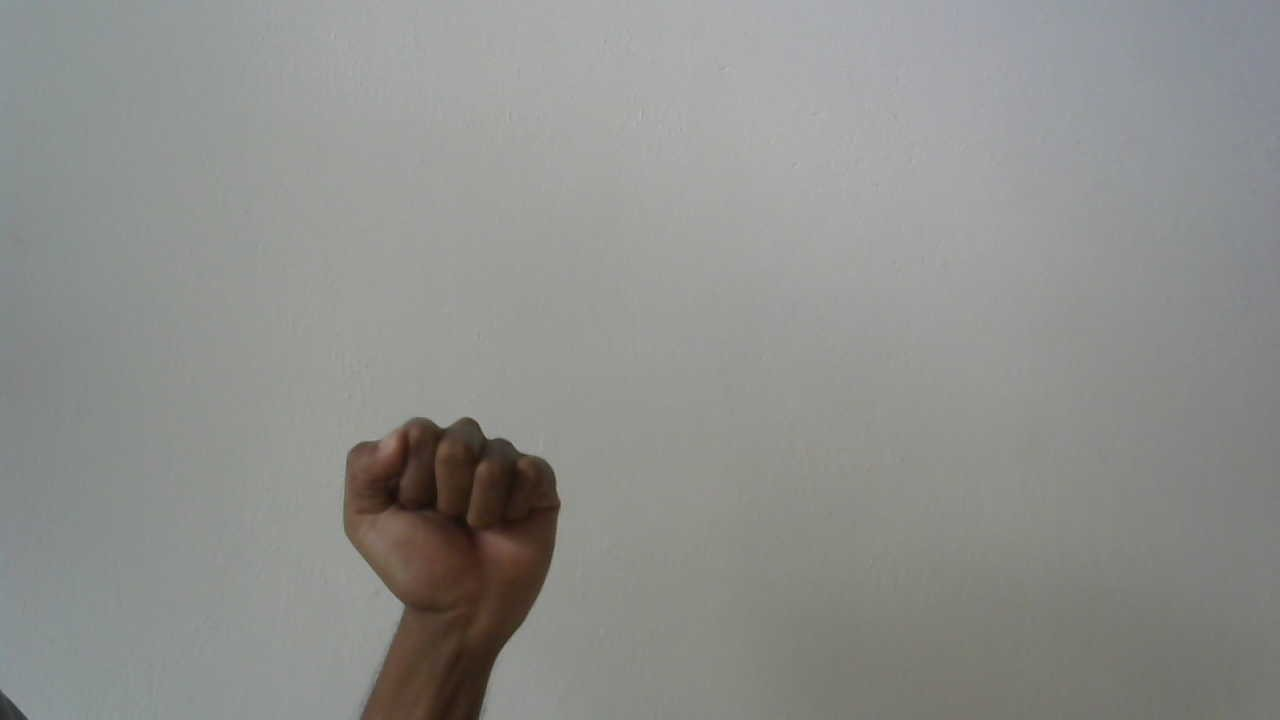yes: (320, 405, 589, 665)
